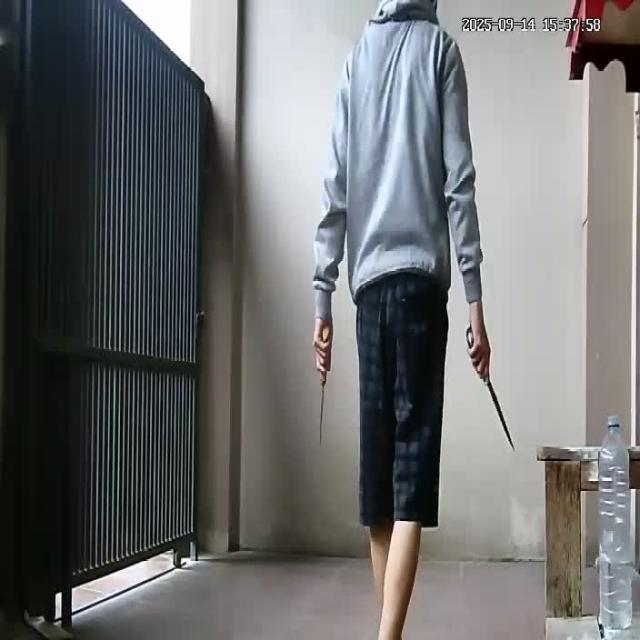senjata_tajam: (482, 373, 518, 452), (316, 365, 328, 447)
